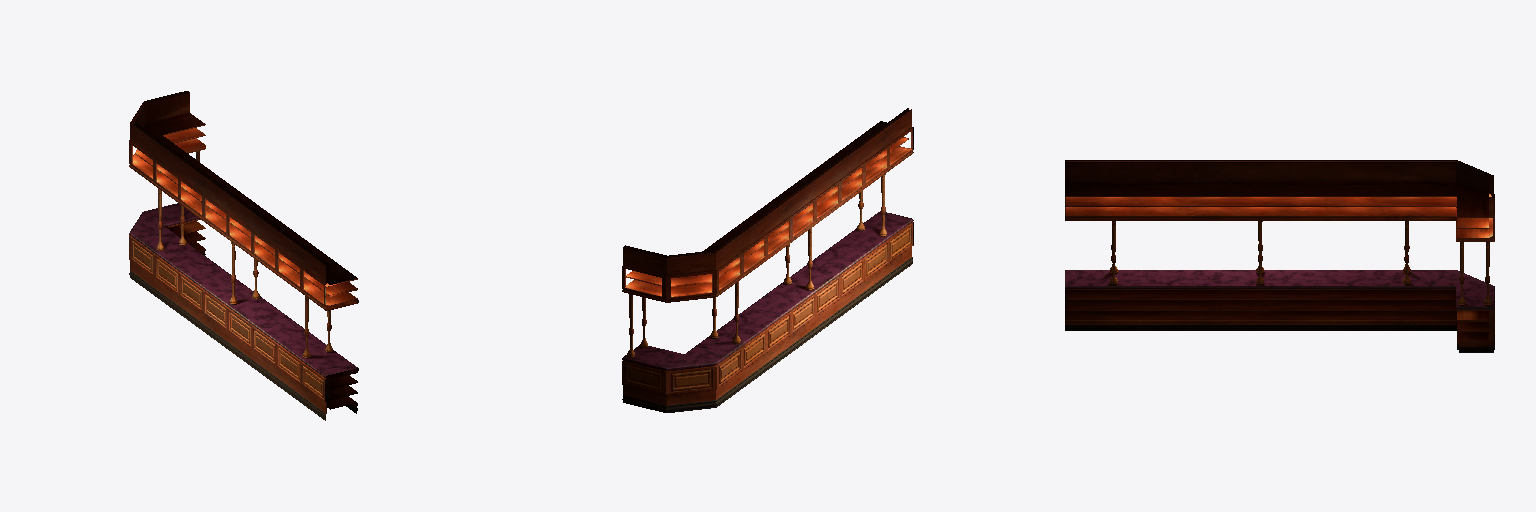
3 renders of one model, left to right at view 1: azimuth 30°, elevation 25°; view 2: azimuth 150°, elevation 25°; view 3: azimuth 270°, elevation 25°, orthographic.
Visible parts, largest first — view 1: Bar3; view 2: Bar3; view 3: Bar3.
Boxes of the visible parts, x1=… form: Bar3: x1=129, y1=91, x2=358, y2=420; Bar3: x1=622, y1=108, x2=913, y2=412; Bar3: x1=1065, y1=160, x2=1494, y2=352.
Size of the model in its own units: 1.6 by 3.11 by 7.78.
Materials: 1 (1 with a texture image).